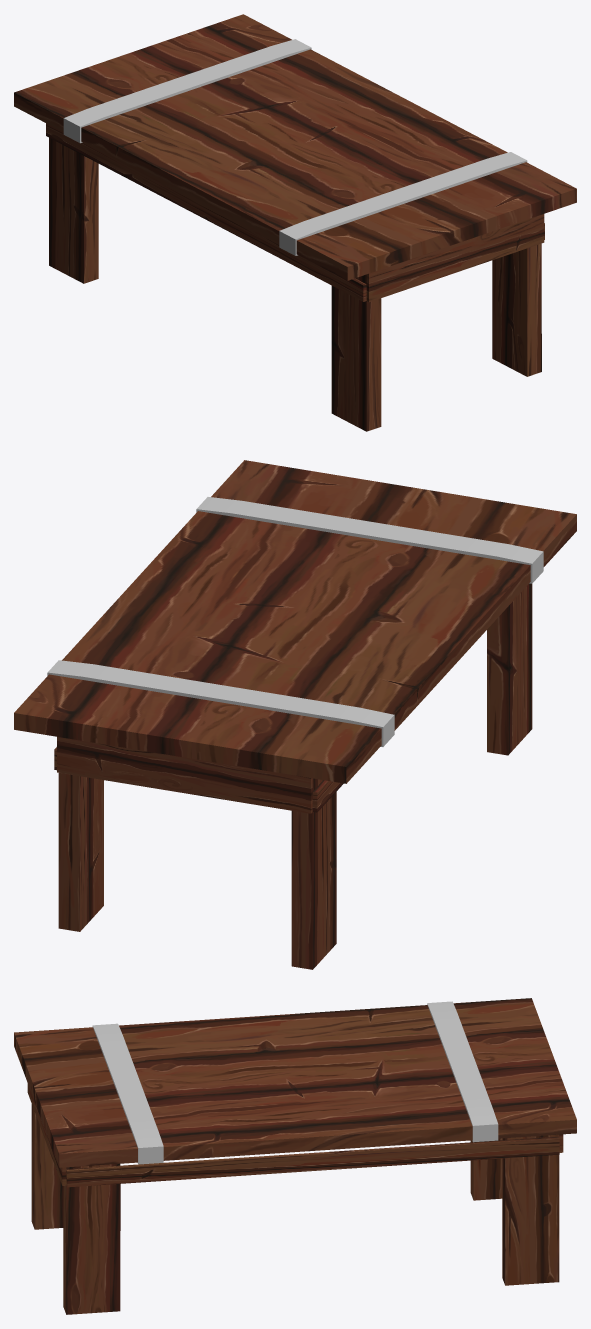
File: table1.fbx
3 renders of one model, top to bottom at view 1: azimuth 30°, elevation 25°; view 2: azimuth 150°, elevation 25°; view 3: azimuth 270°, elevation 25°, orthographic. The views are drawn at different scales.
Parts seen in each view (by area): view 1: table; view 2: table; view 3: table.
Part boxes in pixels (bbox=[...]): table: bbox=[14, 14, 576, 431]; table: bbox=[14, 460, 576, 969]; table: bbox=[14, 998, 576, 1314].
Size of the model in its own units: 14.34 by 7.65 by 21.87.
